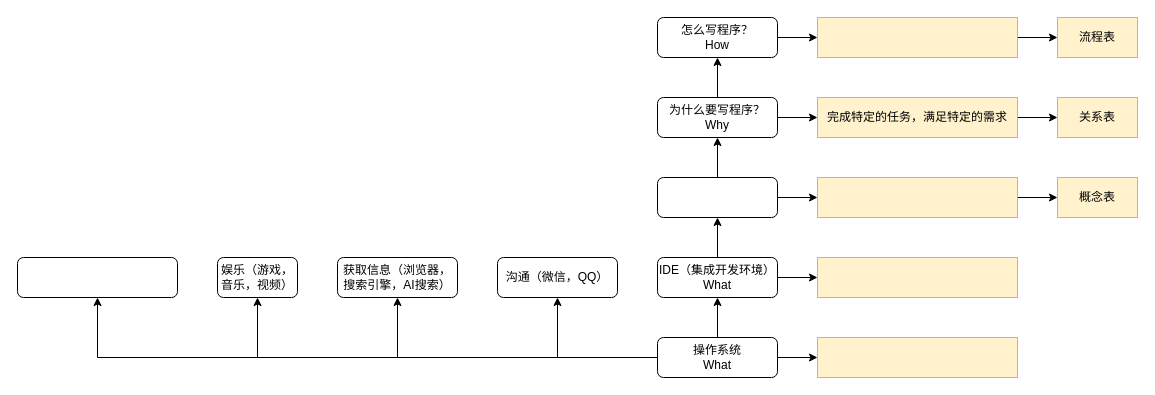
This 1155x395 diagram has some shape labels left out. The centre of each missing label's shape, as x and y in pixels:
"C,C++,Java,Python,Go,Rust..." belongs at (x=917, y=197).
"visual studio,vscode,jetbrains..." belongs at (x=917, y=277).
"windows，linux，macOS..." belongs at (x=917, y=357).
"办公（微软Office,WPS,AutoCAD）" belongs at (x=97, y=277).
"流程控制：顺序、分支判断、循环" belongs at (x=917, y=37).
"编程语言是什么？ What" belongs at (x=717, y=197).
